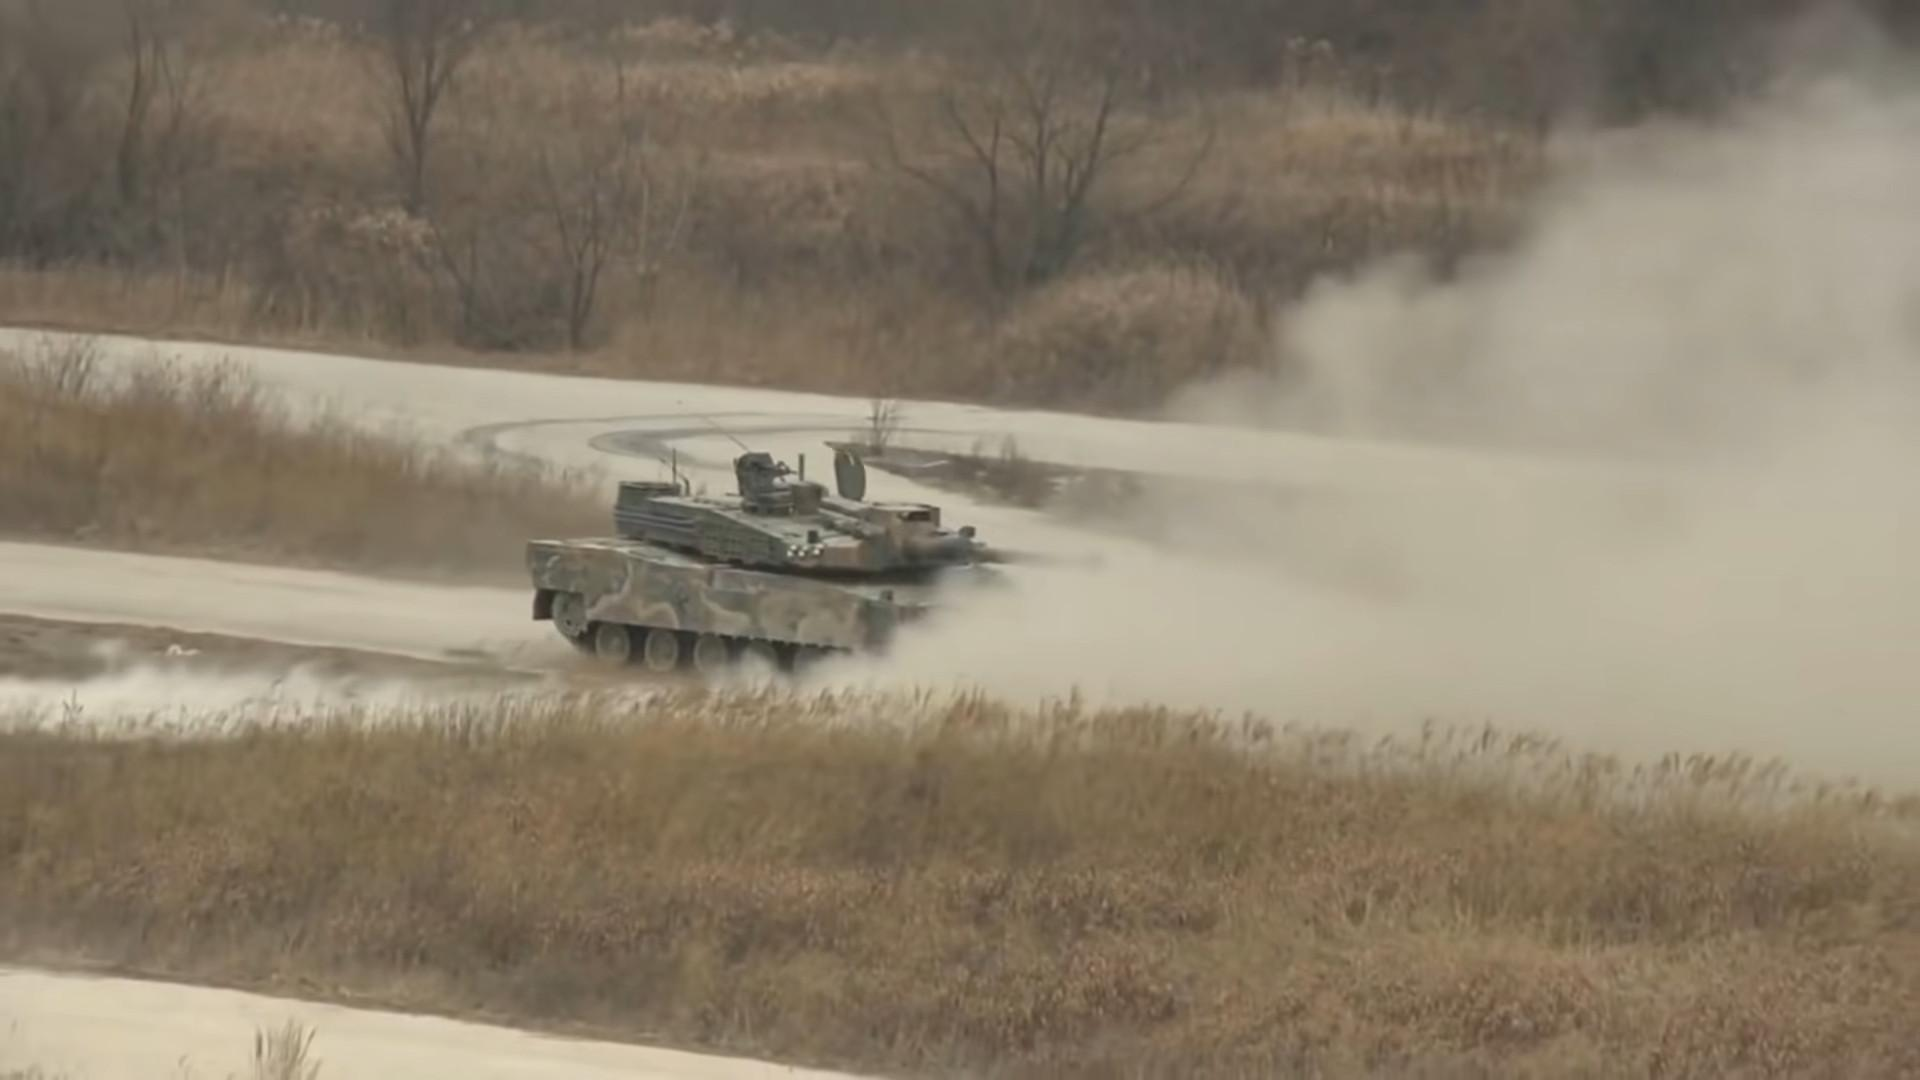tank: (526, 448, 1109, 679)
